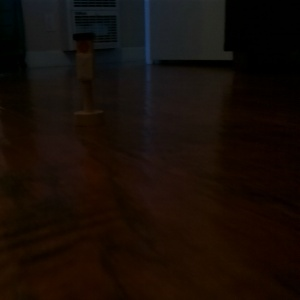traffic light red: (69, 29, 106, 128)
